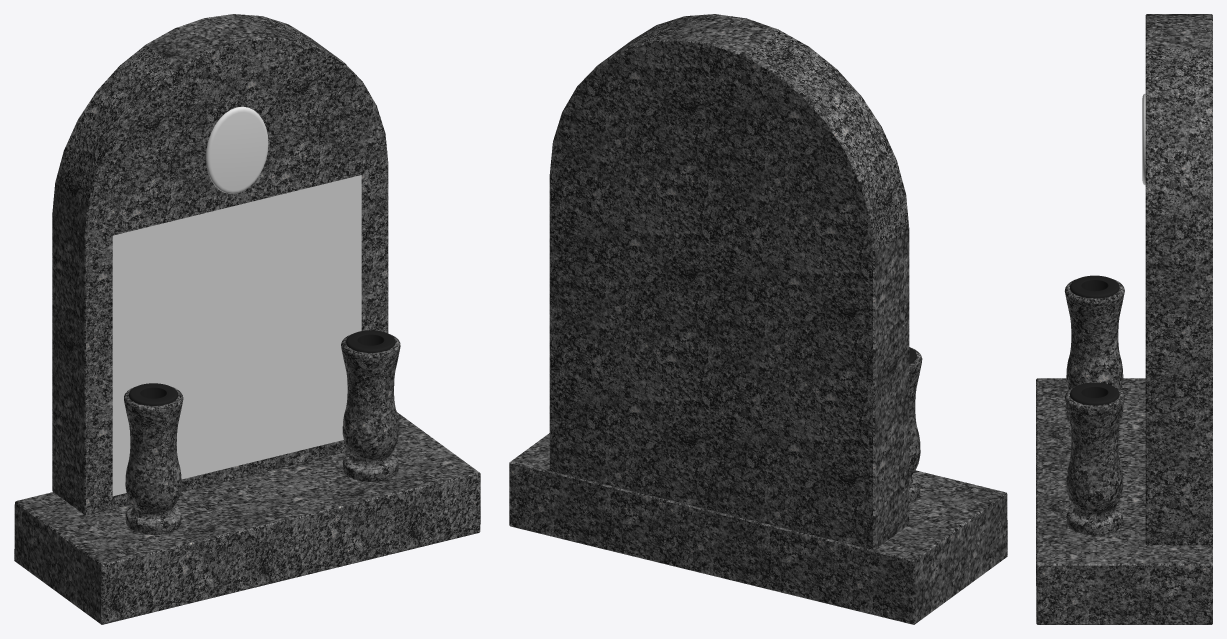
The model's file is Gravestone 2.glb.
The picture shows the model from 3 angles, left to right: view 1: azimuth 30°, elevation 25°; view 2: azimuth 150°, elevation 25°; view 3: azimuth 270°, elevation 25°; orthographic projection. The views are drawn at different scales.
Parts seen in each view (by area): view 1: Gravestone 2, Txt Plane 2, Vase 2, Photo Plaque 2; view 2: Gravestone 2, Vase 2; view 3: Gravestone 2, Vase 2, Photo Plaque 2.
Part boxes in pixels (x1,y1,x2,y2): Gravestone 2: (14, 14, 480, 624); Txt Plane 2: (112, 175, 361, 496); Vase 2: (124, 330, 400, 534); Photo Plaque 2: (206, 106, 268, 193); Gravestone 2: (509, 14, 1007, 624); Vase 2: (909, 347, 922, 502); Gravestone 2: (1036, 14, 1212, 624); Vase 2: (1064, 275, 1124, 535); Photo Plaque 2: (1142, 93, 1145, 185).
Size of the model in its own units: 0.762 by 0.9542 by 0.3048.
Materials: 4 (1 with a texture image).
